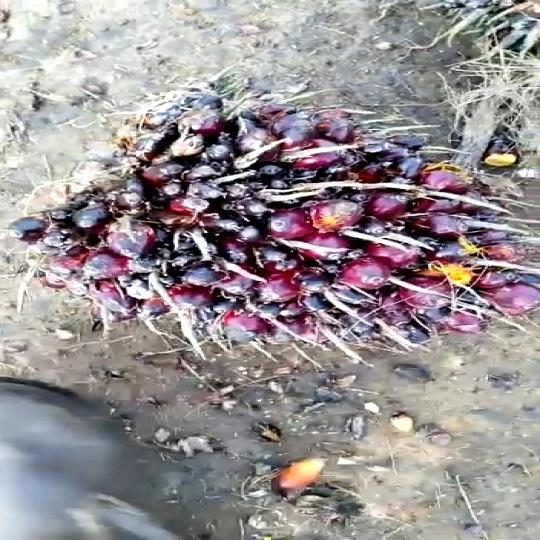kurang masak: (28, 68, 529, 349)
